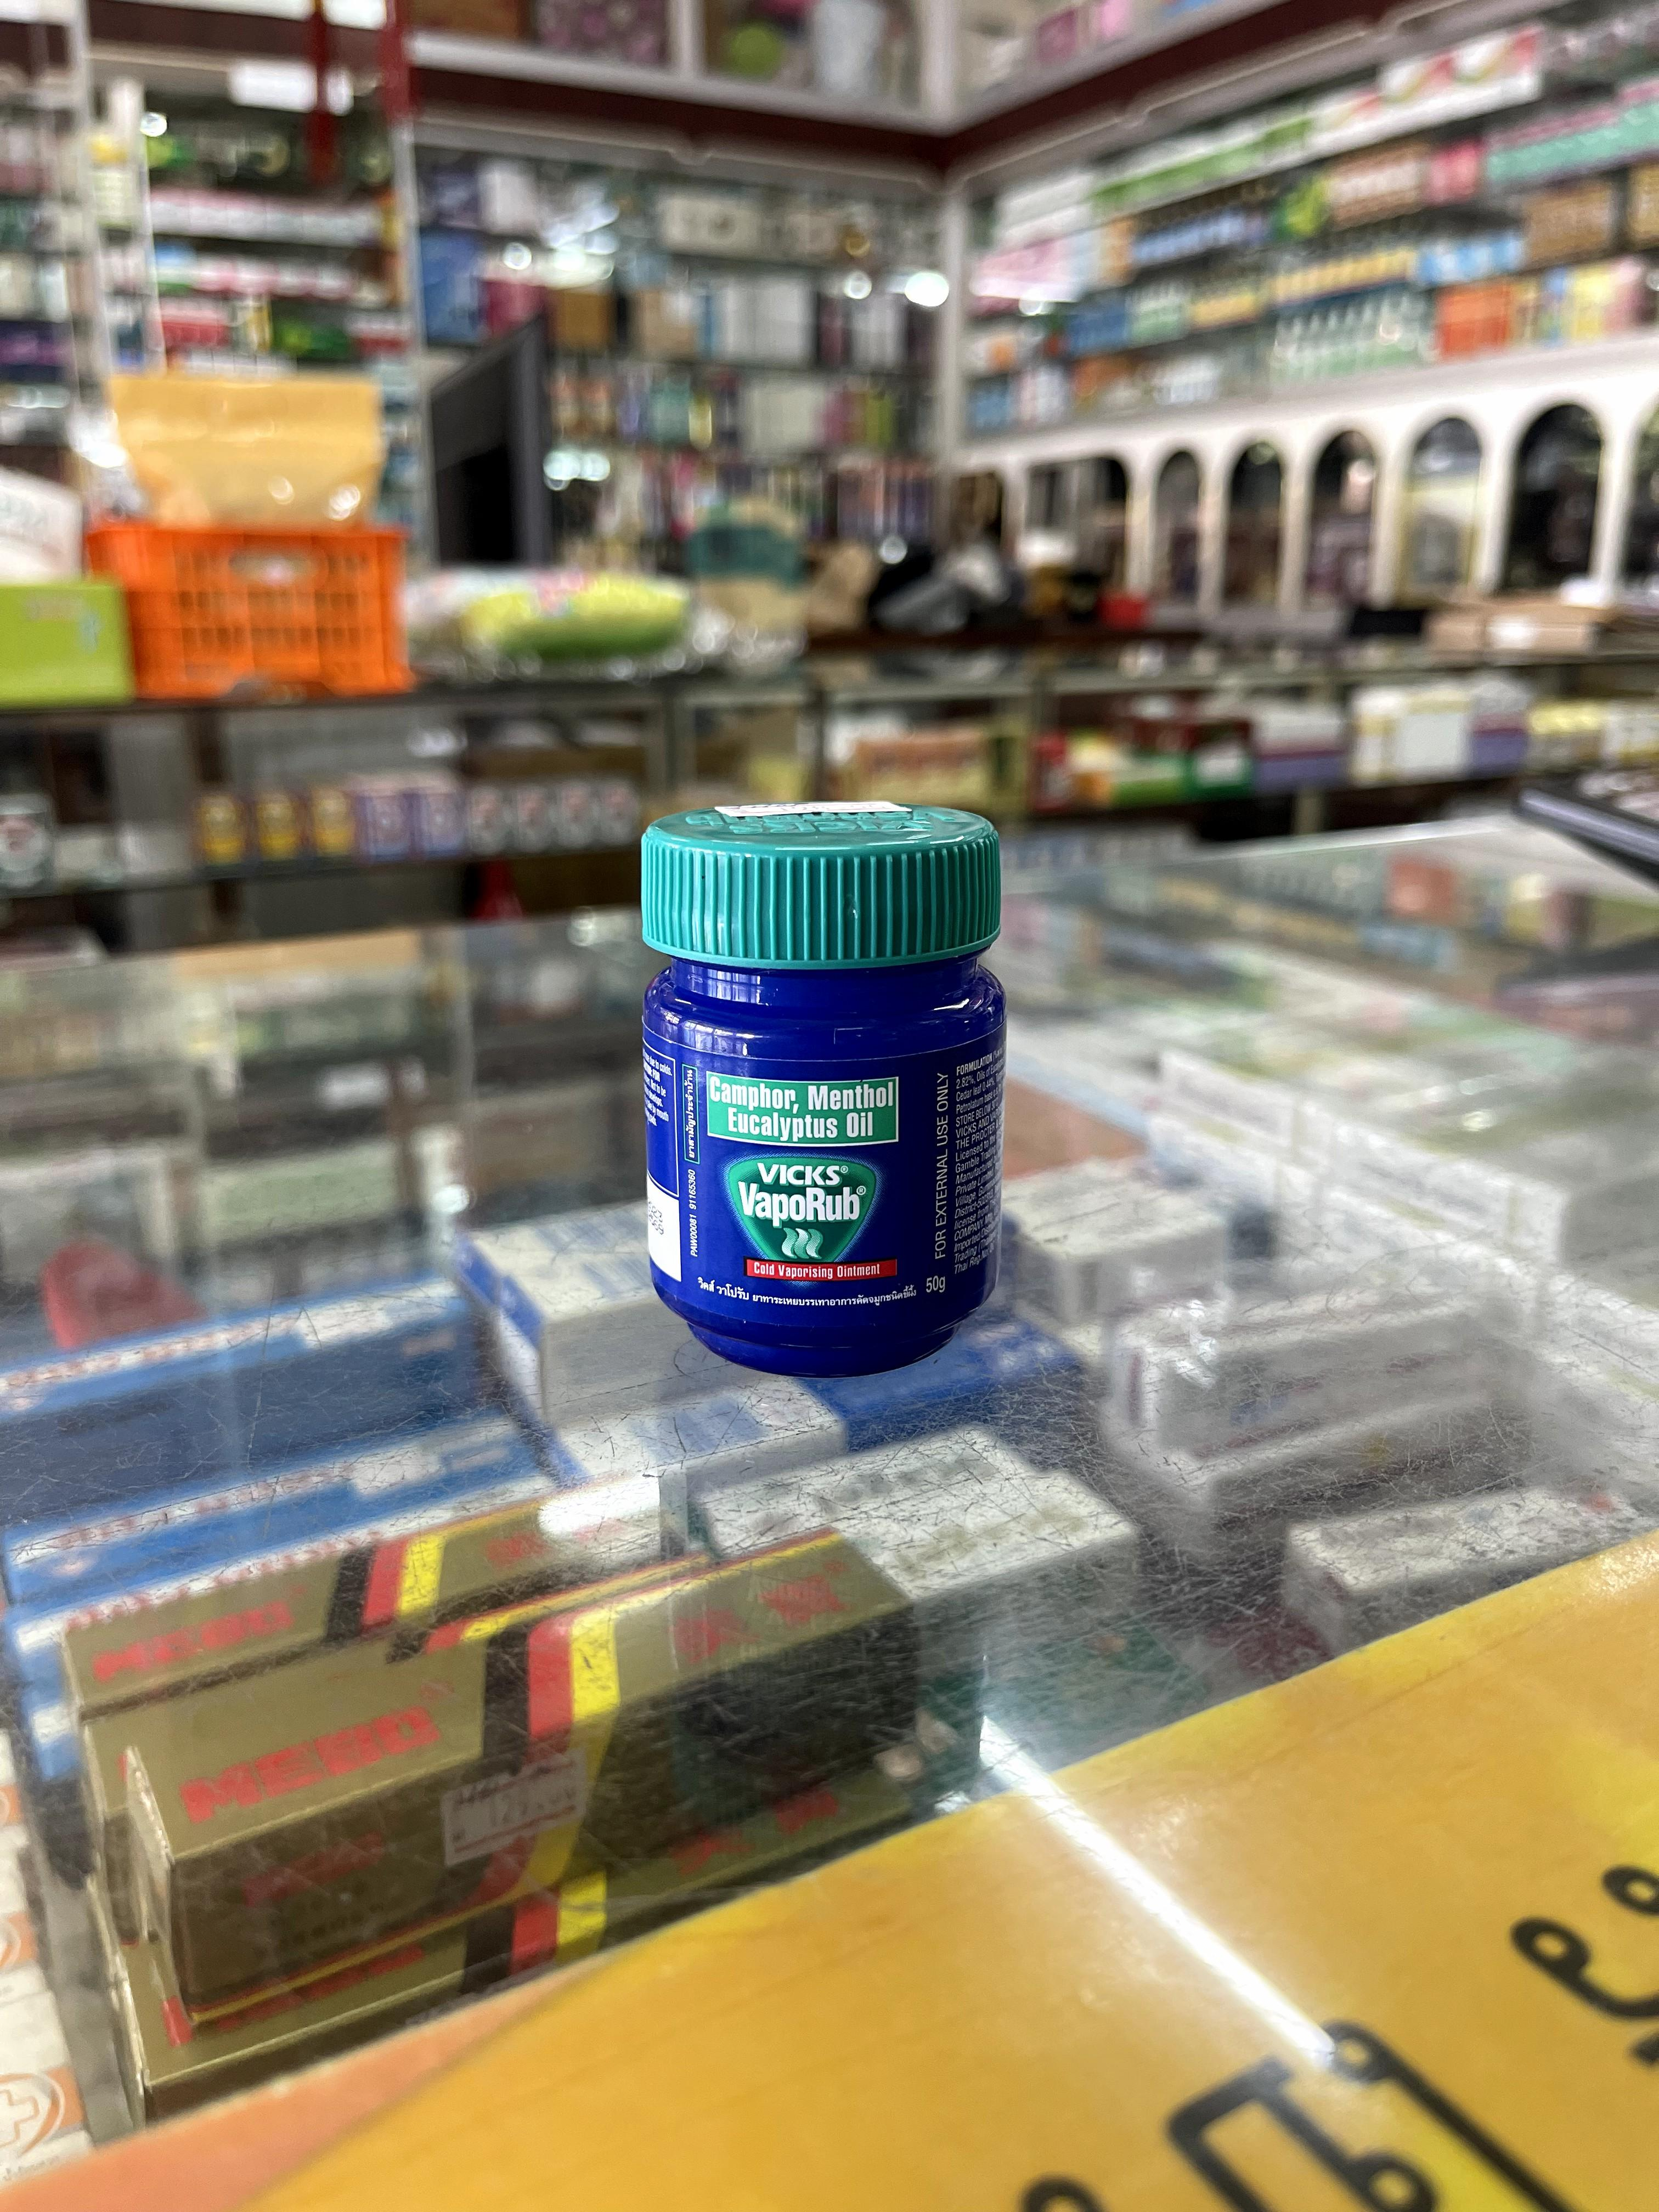VapoRub_Big: (634, 801, 993, 1378)
